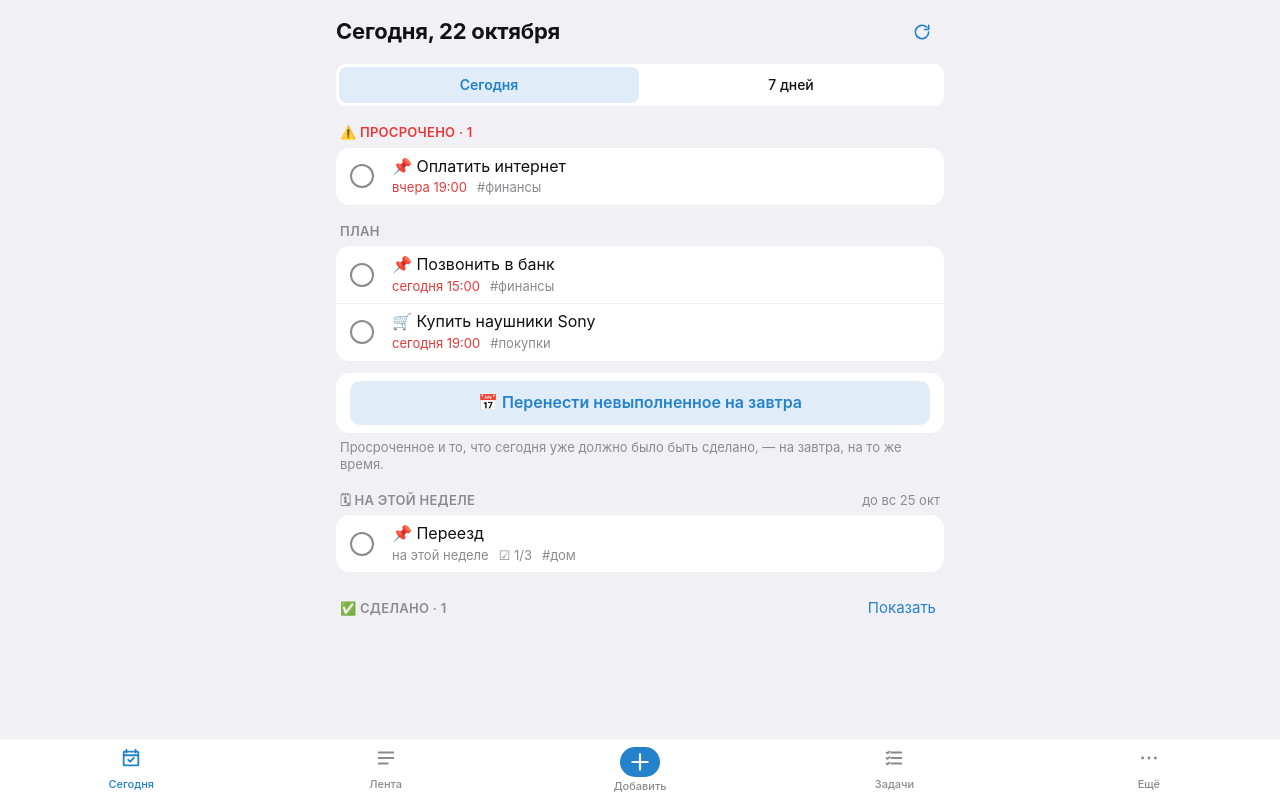
Test case: with the mock API › keeps the text being added when another tab is opened
The width and height of the screenshot is (1280, 800).
expect the text "Позвонить в банк" is shown: met, box [416,254,555,274]
Click the button "Добавить": (640, 772) [513,743,767,799]
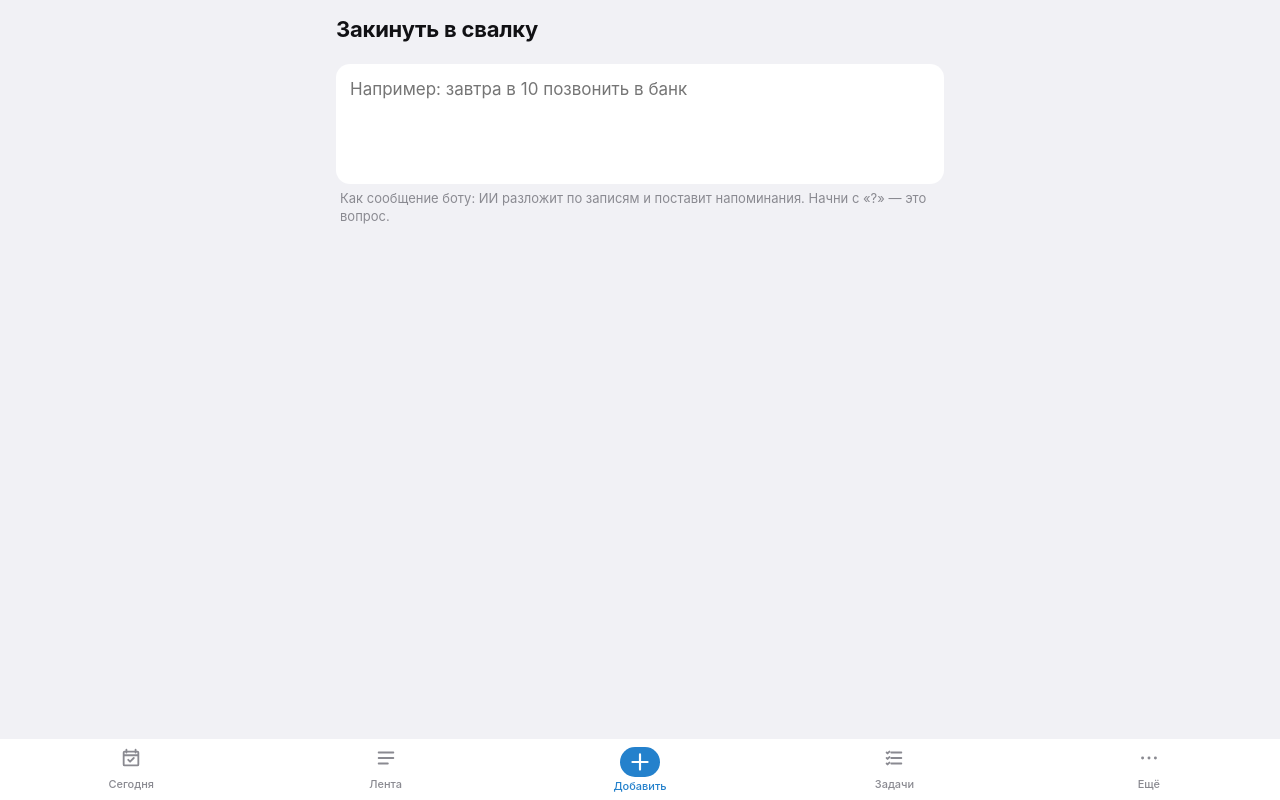
In the text box named "Что закинуть": (640, 124) [336,64,944,184], type "длинная заметка про отпуск"
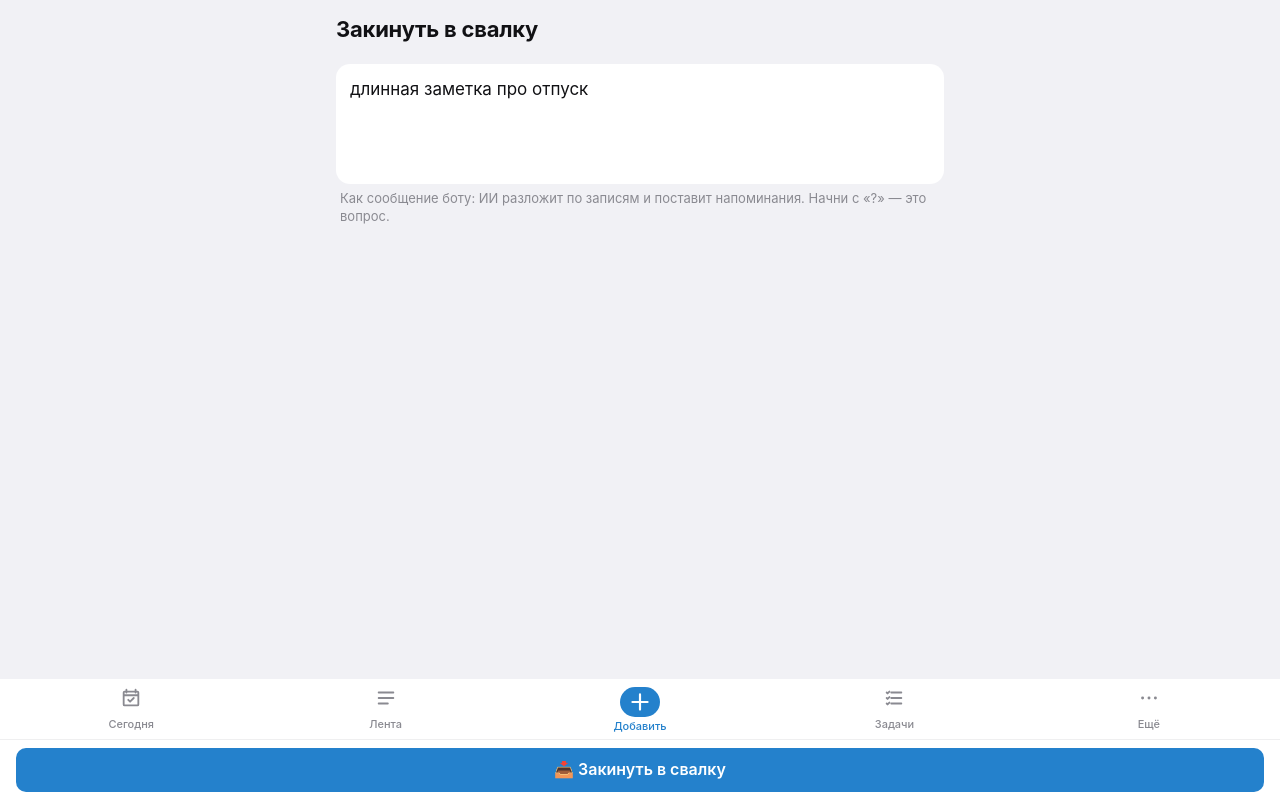
Click the button "Задачи": (894, 712) [767,683,1022,740]
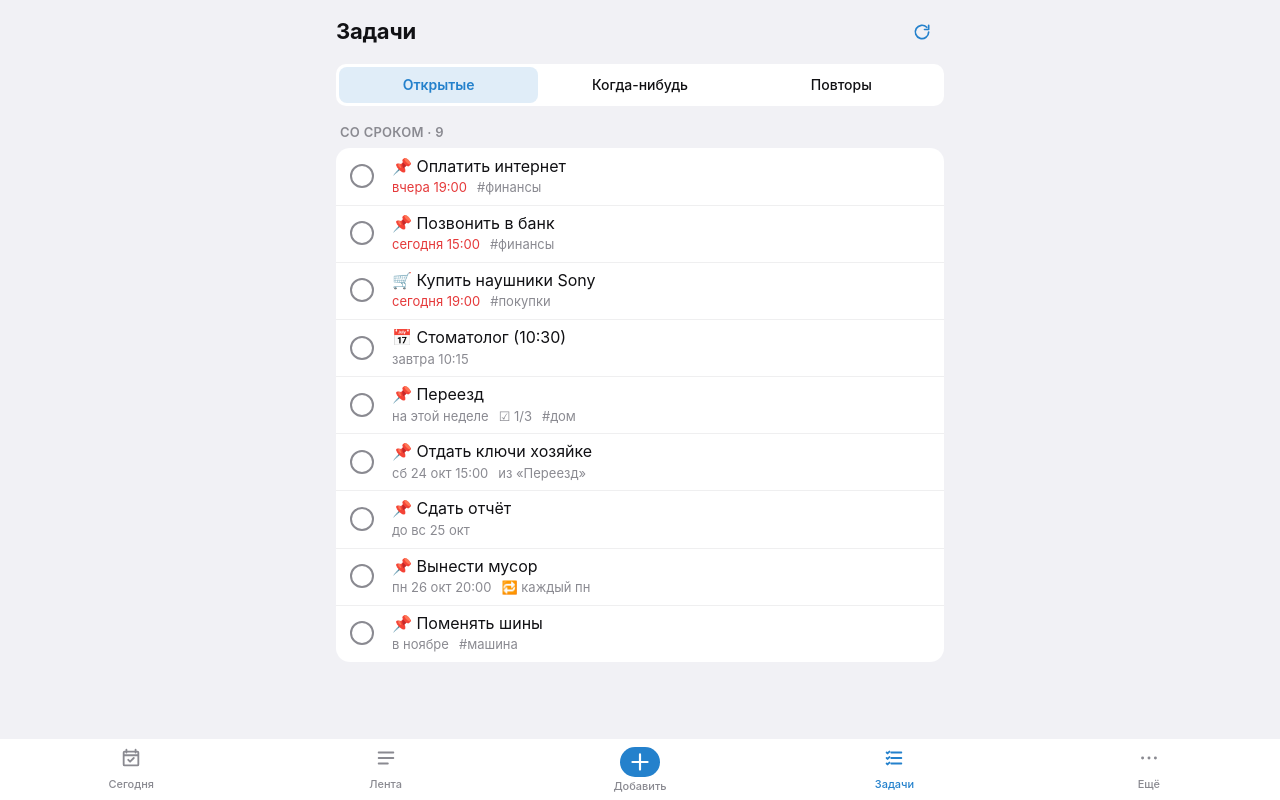
Click the button "Добавить": (640, 772) [513,743,767,799]
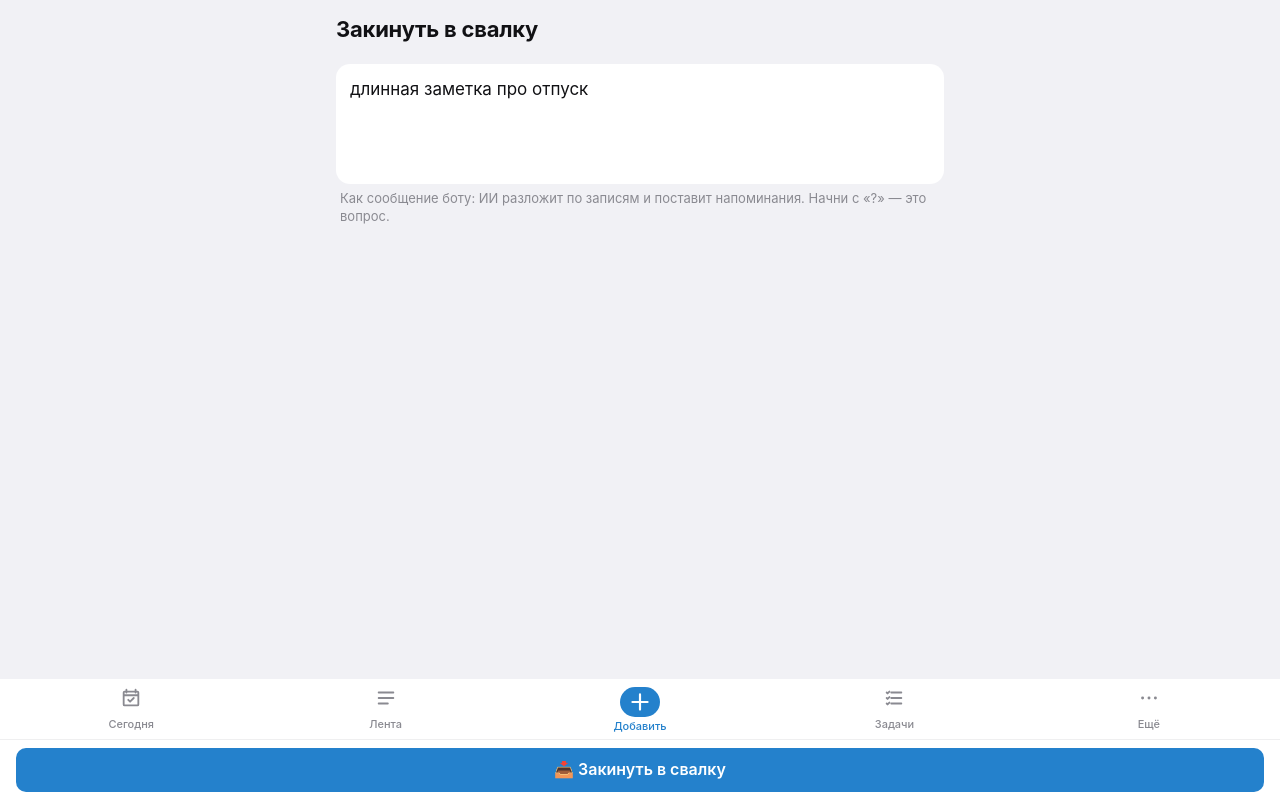
expect the text box named "Что закинуть" holds "длинная заметка про отпуск": met, box [336,64,944,184]
